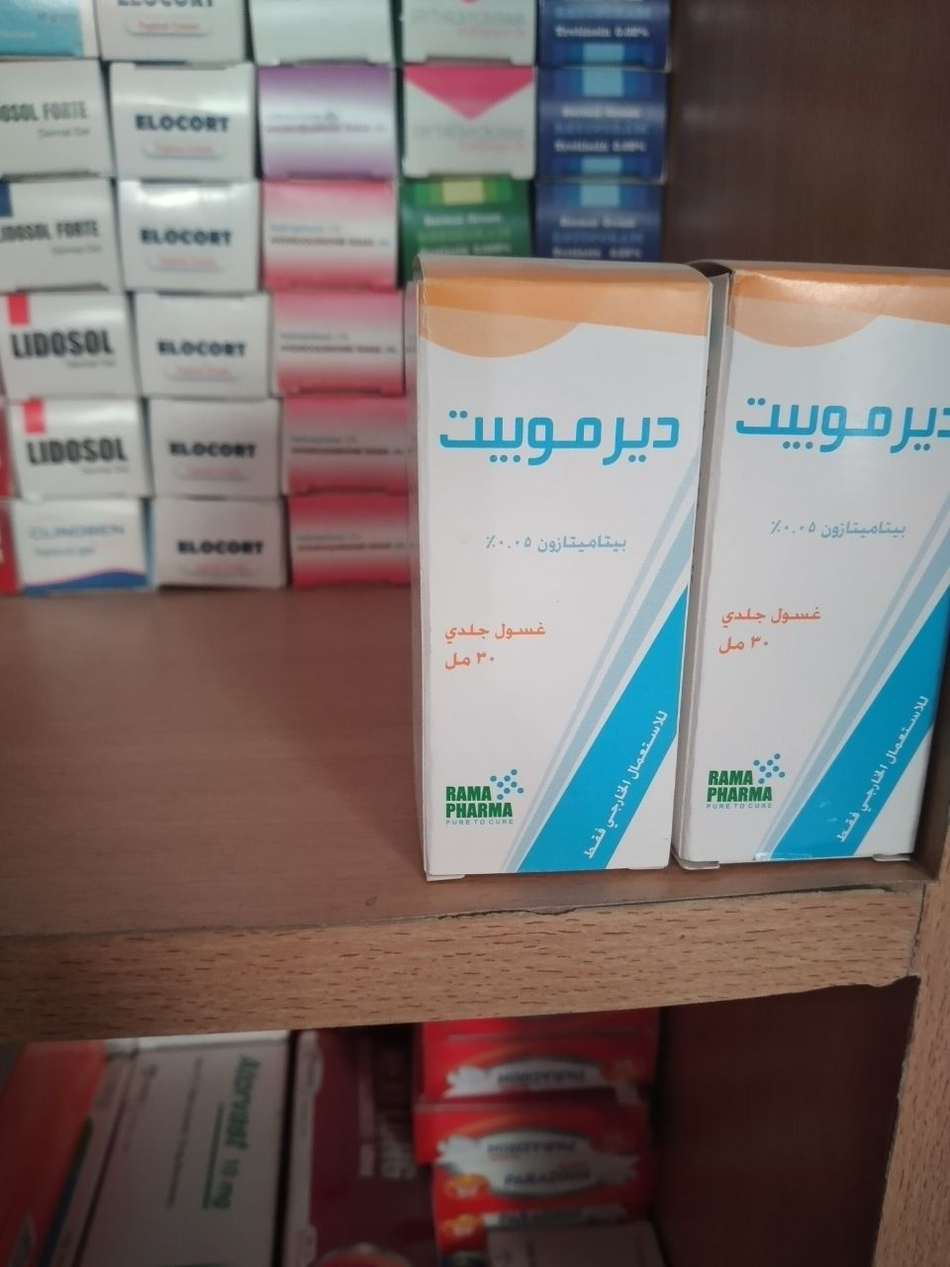Medicine: (402, 257, 716, 897), (689, 261, 934, 881), (402, 1043, 670, 1135), (505, 96, 670, 244), (531, 23, 676, 168), (109, 165, 267, 294), (106, 49, 254, 181), (399, 59, 541, 175), (261, 69, 406, 181), (148, 492, 300, 597), (251, 181, 399, 287), (10, 396, 152, 502), (290, 472, 422, 581), (148, 399, 290, 495), (277, 287, 412, 386), (7, 300, 132, 403), (135, 304, 277, 393), (270, 393, 412, 475), (406, 168, 528, 254), (92, 0, 254, 56)
